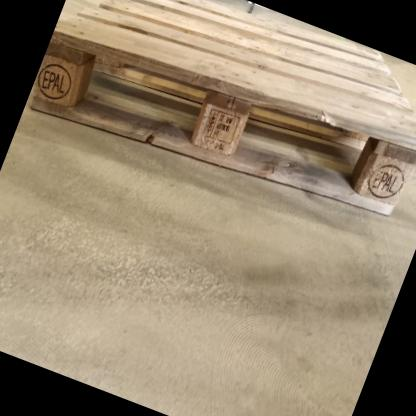BoxFace: (23, 0, 416, 225)
